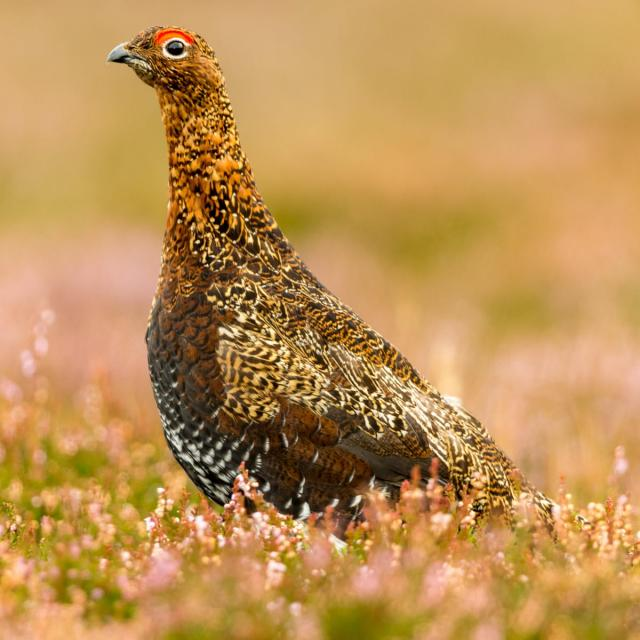bird: (104, 23, 606, 538)
